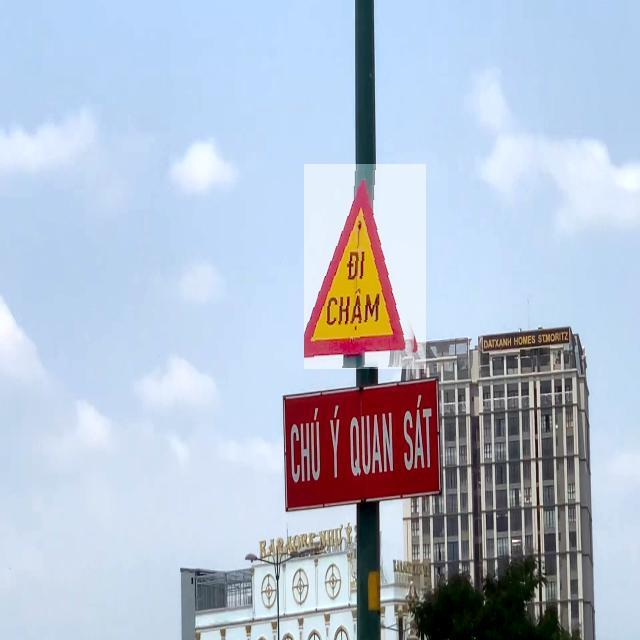W-245a: (304, 164, 426, 369)
